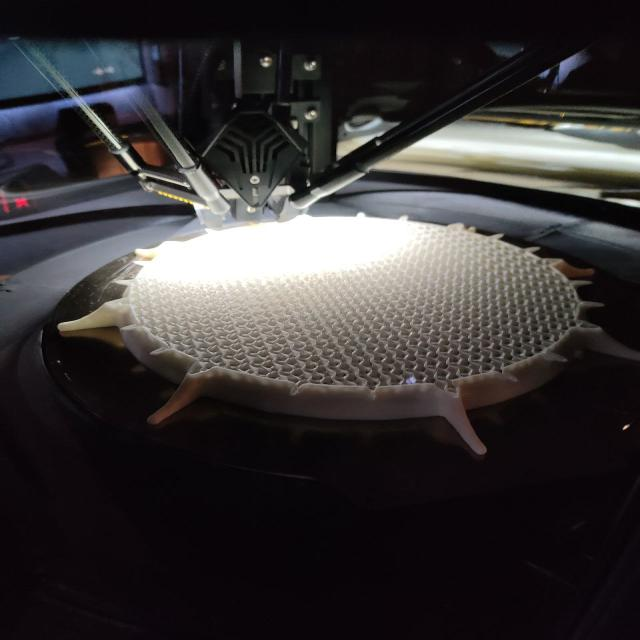Without deffect: (68, 200, 634, 460)
